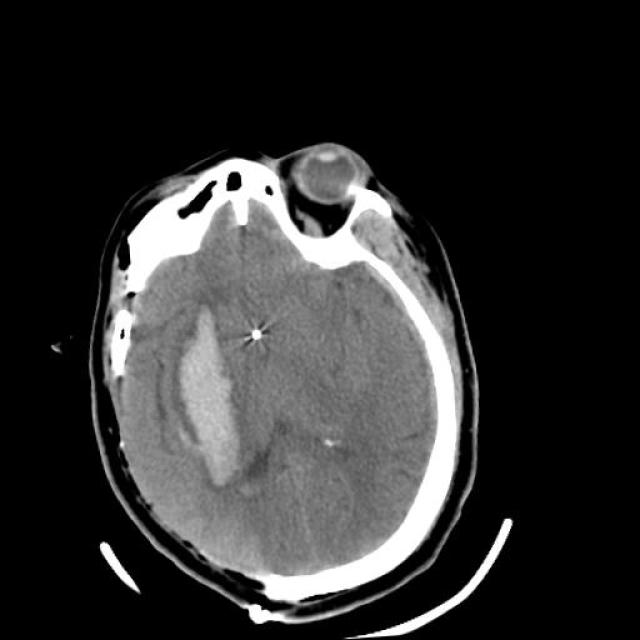Intraparenchymal: (132, 282, 286, 506)
Subdural: (364, 250, 456, 441)
